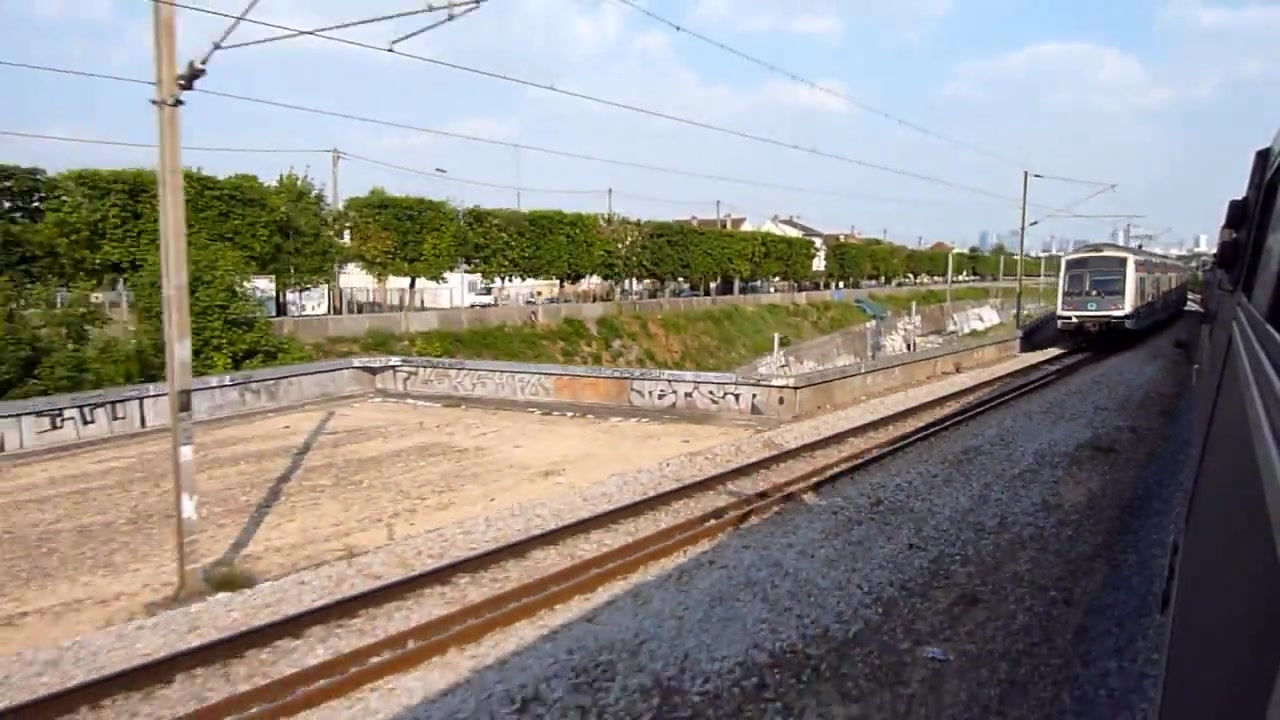train: (1051, 242, 1199, 337)
